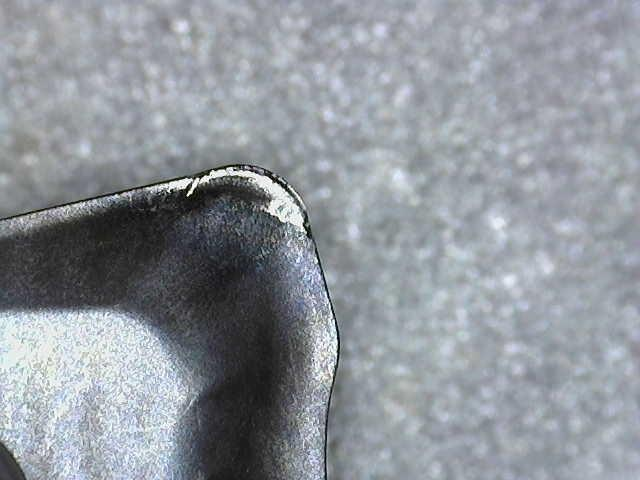normal: (290, 229, 338, 477), (1, 186, 184, 243)
wear: (146, 171, 308, 234)
